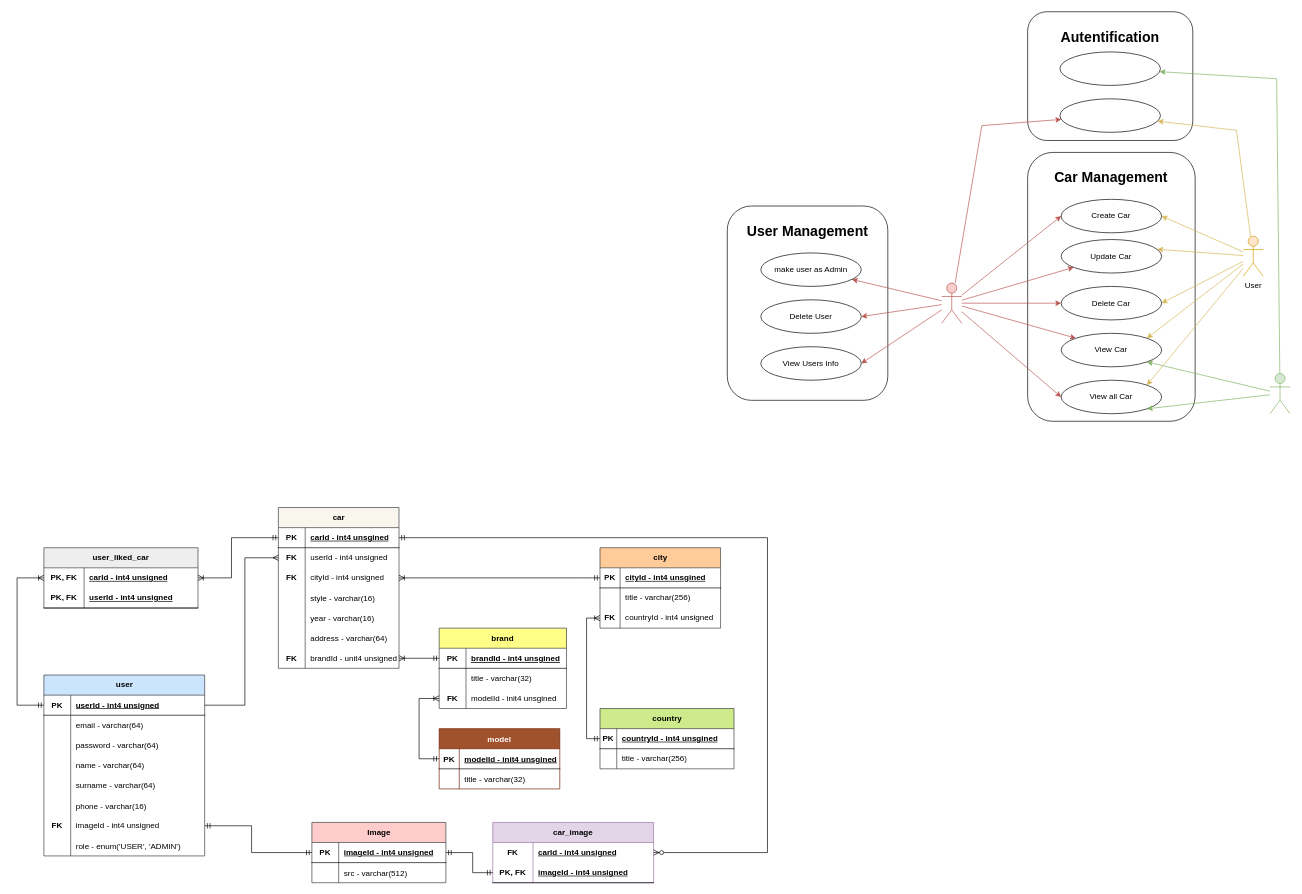
Image size: 1302x894. Some labels were removed from this diagram. The shapes that lost their labels are listed below. From the top down, each one's centre as x and y in pixels, then its label:
At point 1109,68: "Register".
At point 1109,115: "Login".
At point 951,302: "Admin".
At point 1279,393: "Visitor".
